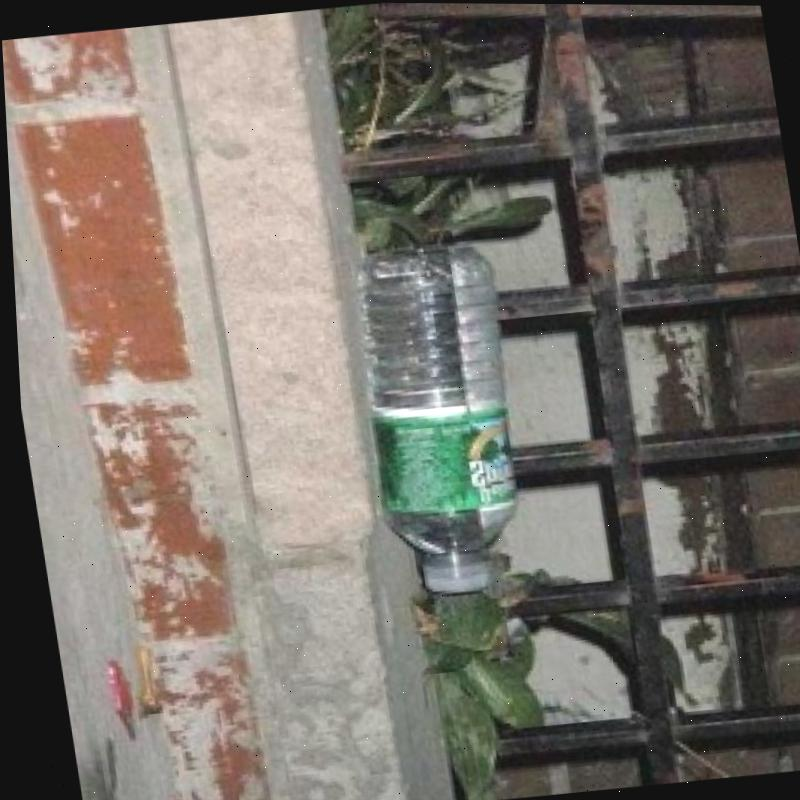botella: (342, 242, 541, 606)
